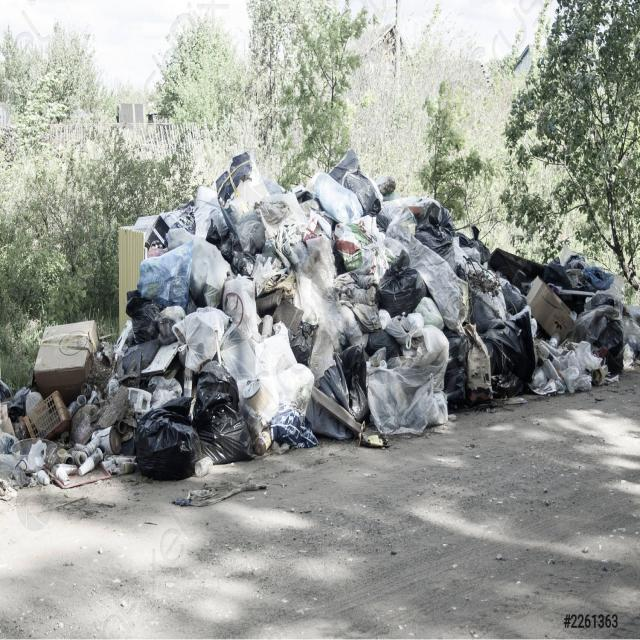garbage: (5, 142, 636, 484)
